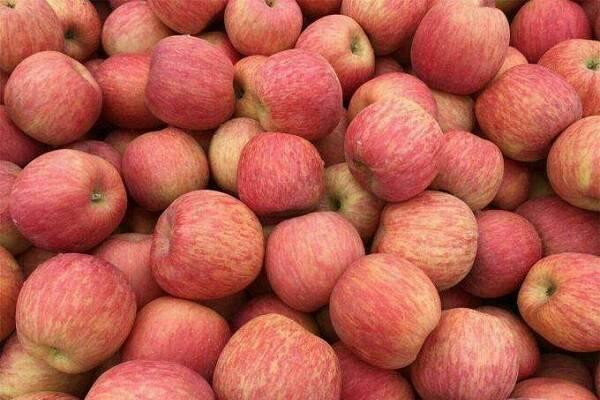apple: (10, 255, 135, 373), (329, 253, 442, 371), (149, 188, 265, 301), (8, 148, 127, 253), (212, 313, 343, 400), (342, 94, 447, 201), (371, 188, 478, 291), (261, 209, 366, 308), (476, 63, 581, 161), (409, 306, 518, 400), (4, 49, 103, 147), (410, 4, 511, 94), (514, 252, 599, 355), (145, 33, 235, 129), (231, 128, 324, 220), (125, 298, 229, 374), (465, 204, 544, 302), (254, 51, 341, 138), (120, 126, 211, 209), (297, 13, 374, 94), (433, 127, 503, 210), (544, 113, 599, 211), (317, 164, 381, 246), (541, 36, 600, 112), (222, 1, 301, 56), (1, 2, 63, 70), (49, 2, 102, 61)
